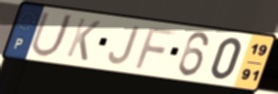0: (208, 36, 244, 82)
6: (176, 31, 210, 78)
F: (133, 25, 179, 71)
J: (107, 24, 143, 67)
K: (64, 16, 103, 63)
U: (28, 10, 76, 59)
